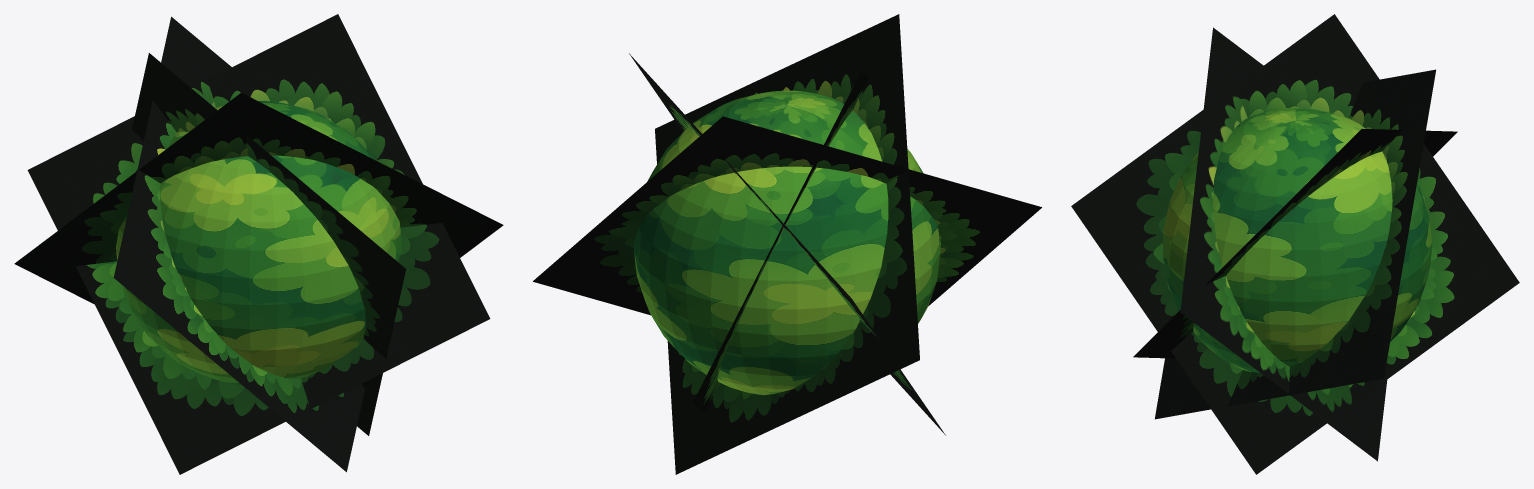
The model's file is Tree_texture.fbx.
The picture shows the model from 3 angles, left to right: view 1: azimuth 30°, elevation 25°; view 2: azimuth 150°, elevation 25°; view 3: azimuth 270°, elevation 25°; orthographic projection. The views are drawn at different scales.
Parts seen in each view (by area): view 1: Plane.003, Sphere, Plane.001, Plane.002, Plane; view 2: Sphere, Plane.001, Plane.002, Plane, Plane.003; view 3: Plane, Sphere, Plane.002, Plane.001, Plane.003.
Part boxes in pixels (box(x1,y1,x2,y2)): Plane.003: box(27, 14, 490, 474); Sphere: box(116, 101, 401, 384); Plane.001: box(14, 92, 503, 304); Plane.002: box(113, 16, 364, 472); Plane: box(132, 53, 405, 435); Sphere: box(633, 90, 940, 395); Plane.001: box(655, 14, 919, 474); Plane.002: box(533, 116, 1041, 315); Plane: box(693, 71, 868, 411); Plane.003: box(629, 53, 945, 435); Plane: box(1071, 14, 1519, 474); Sphere: box(1163, 107, 1432, 372); Plane.002: box(1155, 69, 1435, 419); Plane.001: box(1180, 27, 1387, 461); Plane.003: box(1133, 128, 1457, 358).
Bounding box in the file's own units: 255 × 252 × 271.
Materials: 2 (2 with a texture image).
